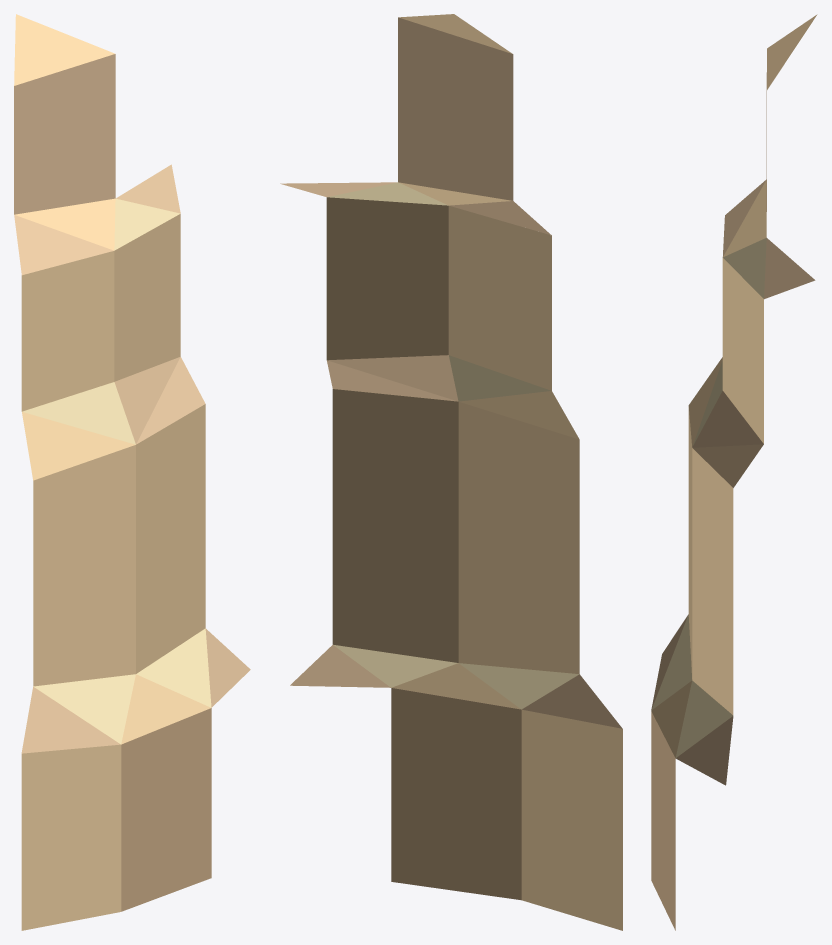
3 views of the same model, side by side, from view 1: azimuth 30°, elevation 25°; view 2: azimuth 150°, elevation 25°; view 3: azimuth 270°, elevation 25° (orthographic). The views are drawn at different scales.
Visible parts, largest first — view 1: O2D667; view 2: O2D667; view 3: O2D667.
Part boxes in pixels (left/top/right/bottom): O2D667: left=14, top=14, right=250, bottom=930; O2D667: left=280, top=14, right=622, bottom=930; O2D667: left=651, top=14, right=817, bottom=930.
Size of the model in its own units: 31.4 by 97 by 17.13.
